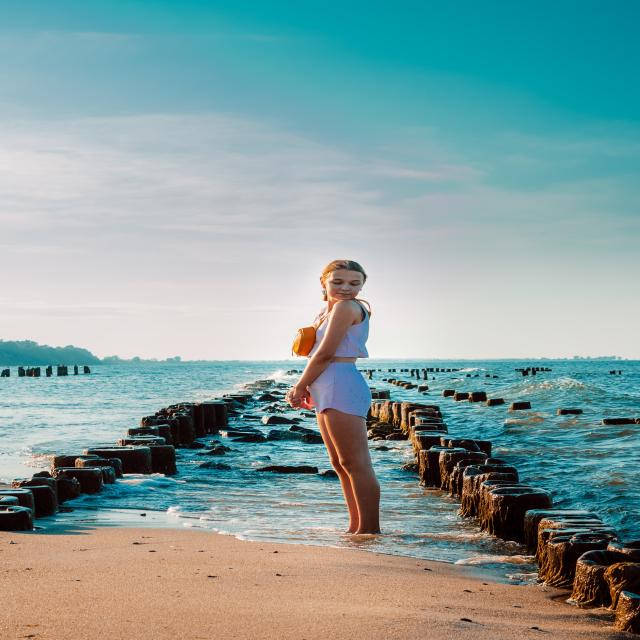standing: (284, 257, 386, 545)
